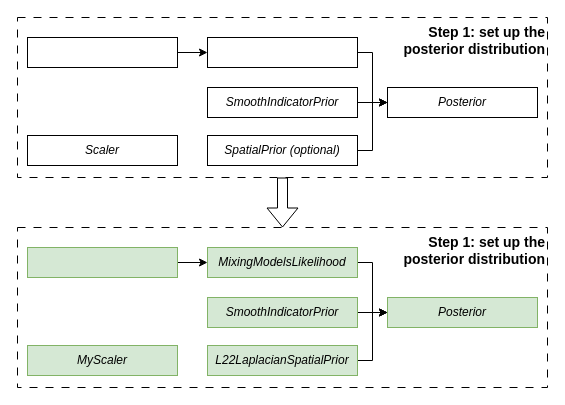
Some shapes in this 565 by 405 pixel diagram are drawn without their labels. The shapes that lost their labels are listed below. From the top down, each one's centre as x and y in pixels, then its label:
pixel 102 52: ForwardMap
pixel 282 52: Likelihood
pixel 102 262: NeuralNetworlApprox
